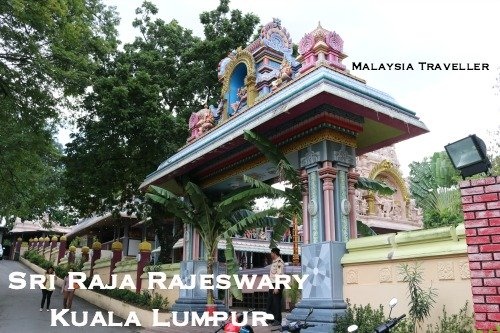Hindu Temple: (165, 23, 347, 316)
